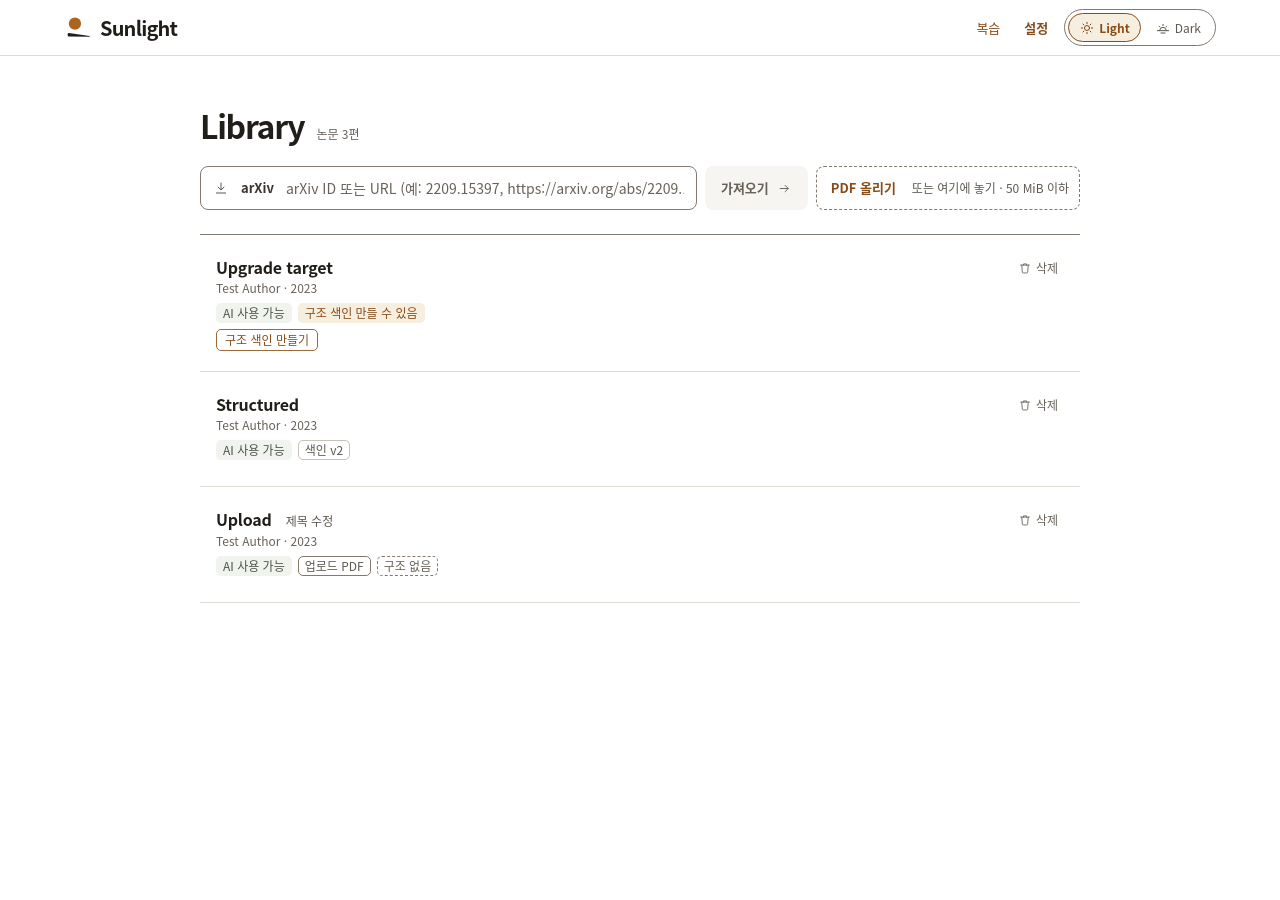
Scenario: upgrade flow › final failure: the reason from ingestWarnings (html_not_found) and no button afterwards
Click the button with test id "rd-upgrade-button". click: (267, 340)
box: [216,329,318,351]
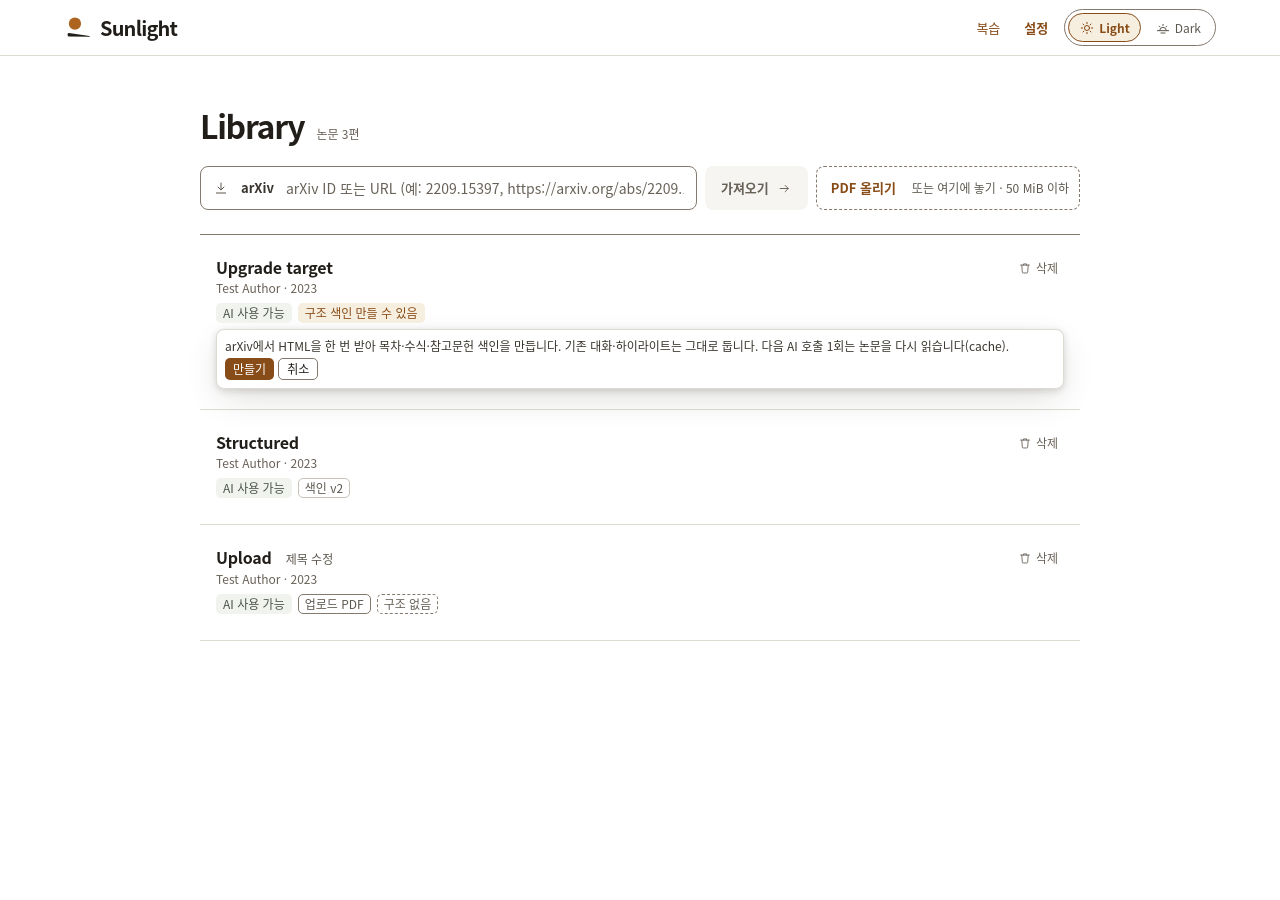
Click the button with test id "rd-upgrade-confirm-yes". click: (250, 369)
box: [225,358,274,380]
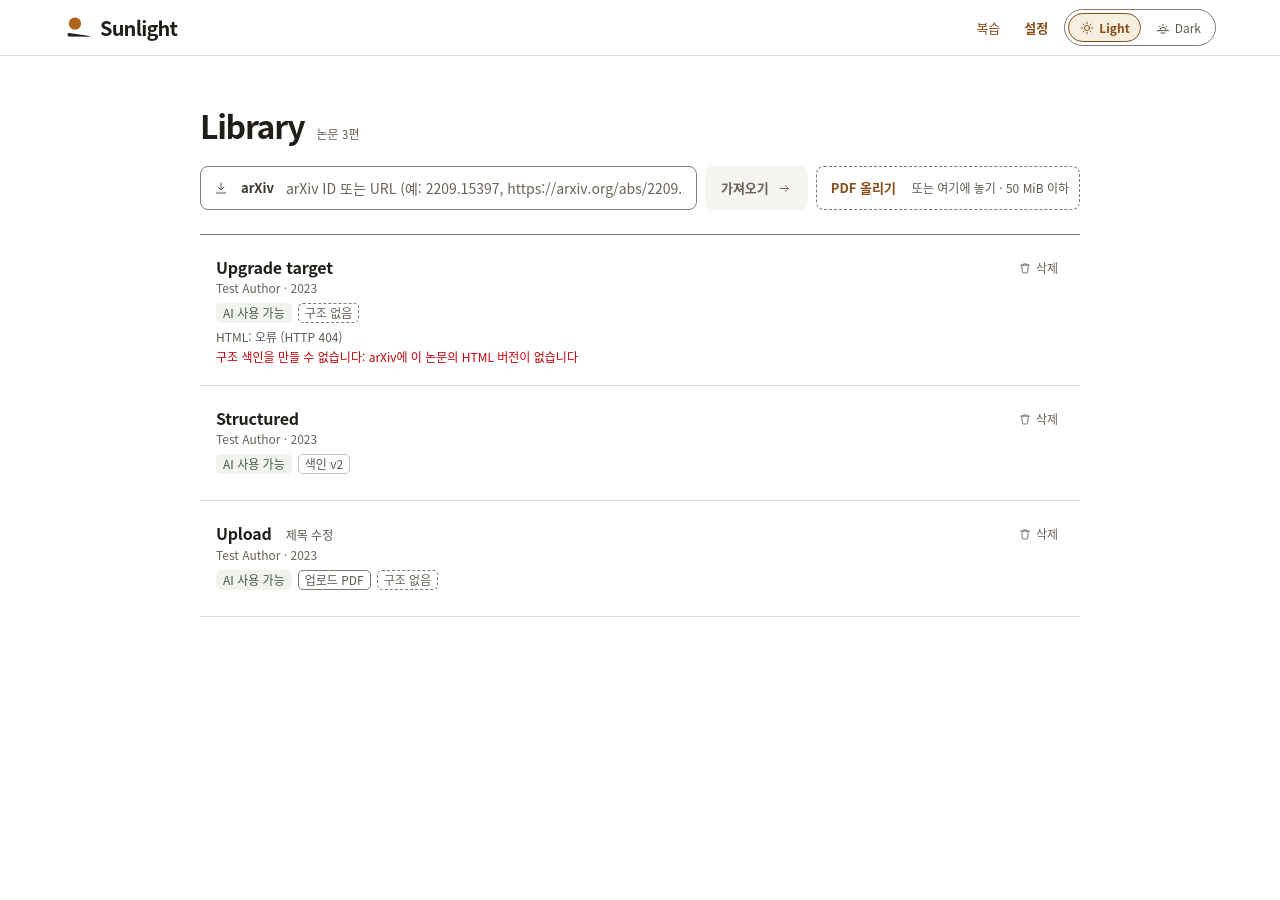
Result: the message with test id "rd-upgrade-error" shows "arXiv에 이 논문의 HTML 버전이 없습니다" at [216,348,578,365]
Result: the text with test id "rd-structure-badge" below "Upgrade target" reads "구조 없음" at [305,304,352,321]
